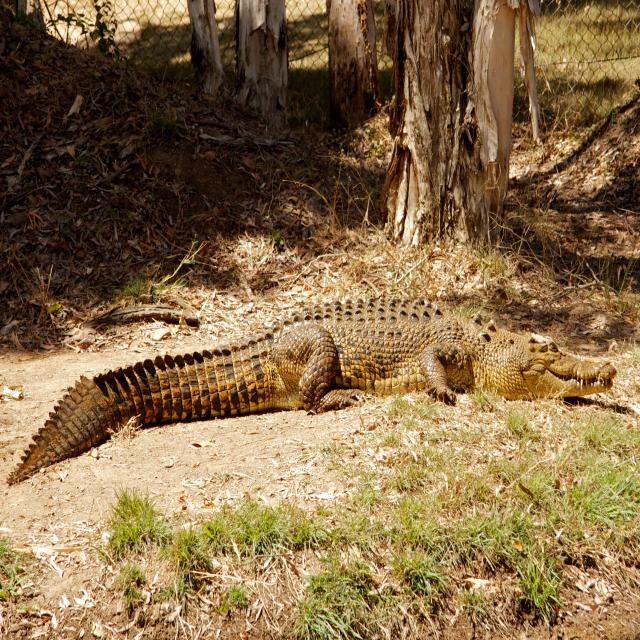crocodile: (0, 267, 619, 522)
